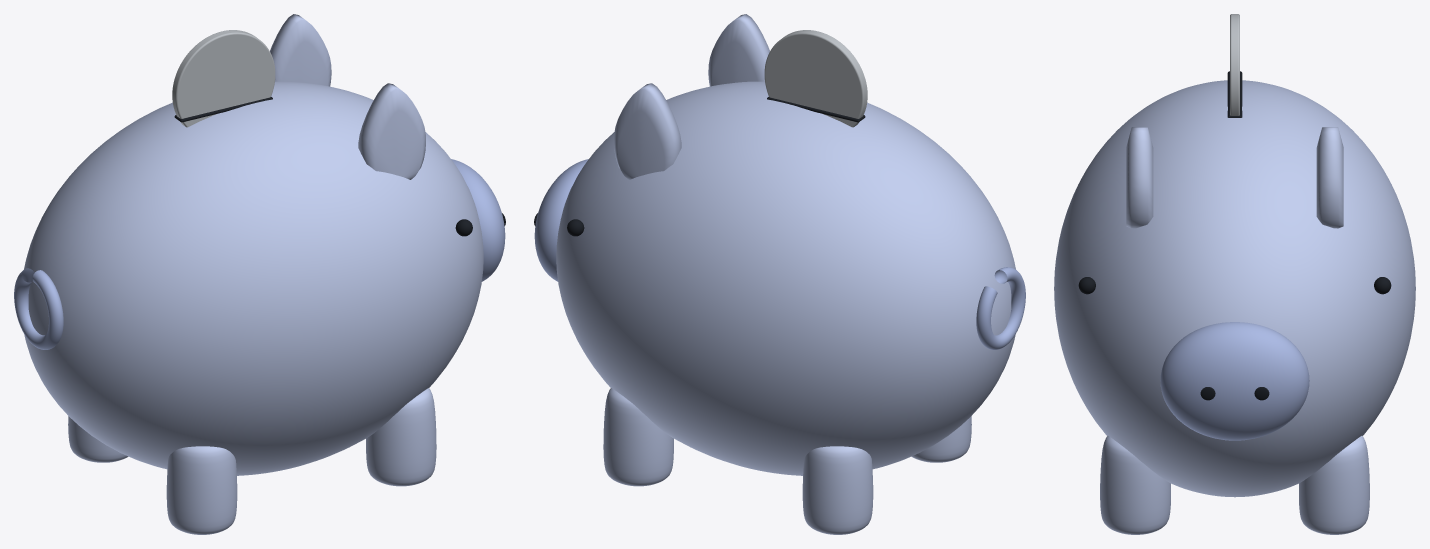
File: piggy-bank.glb
3 renders of one model, left to right at view 1: azimuth 30°, elevation 25°; view 2: azimuth 150°, elevation 25°; view 3: azimuth 270°, elevation 25°, orthographic.
Visible parts, largest first — view 1: glazed-ceramic-body-001, sculpted-surface (×3), soft-ceramic-ear (×2), coin-entering-savings-slot-014, sculpted-snout-006, curled-tail-015; view 2: glazed-ceramic-body-001, sculpted-surface (×3), soft-ceramic-ear (×2), coin-entering-savings-slot-014, sculpted-snout-006, curled-tail-015; view 3: glazed-ceramic-body-001, sculpted-snout-006, sculpted-surface (×2), soft-ceramic-ear (×2), coin-entering-savings-slot-014.
Boxes of the visible parts, box(x1,y1,x2,y2) form: glazed-ceramic-body-001: box(24, 81, 483, 475); sculpted-surface (×3): box(68, 388, 436, 534); soft-ceramic-ear (×2): box(270, 14, 425, 179); coin-entering-savings-slot-014: box(172, 30, 275, 127); sculpted-snout-006: box(451, 159, 505, 281); curled-tail-015: box(14, 268, 63, 349); glazed-ceramic-body-001: box(556, 81, 1015, 475); sculpted-surface (×3): box(603, 388, 971, 534); soft-ceramic-ear (×2): box(614, 14, 769, 179); coin-entering-savings-slot-014: box(764, 30, 867, 127); sculpted-snout-006: box(534, 159, 588, 281); curled-tail-015: box(976, 267, 1025, 349); glazed-ceramic-body-001: box(1054, 80, 1415, 497); sculpted-snout-006: box(1160, 322, 1309, 440); sculpted-surface (×2): box(1100, 436, 1369, 534); soft-ceramic-ear (×2): box(1126, 127, 1343, 228); coin-entering-savings-slot-014: box(1230, 14, 1239, 115).
Bounding box in the file's own units: 2 × 1.83 × 1.36.
